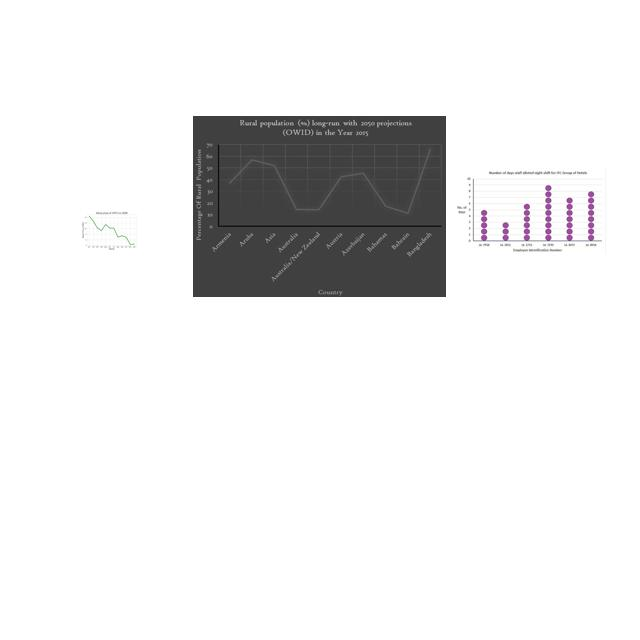Graph: (193, 116, 446, 297), (453, 169, 606, 254), (79, 206, 143, 254)
